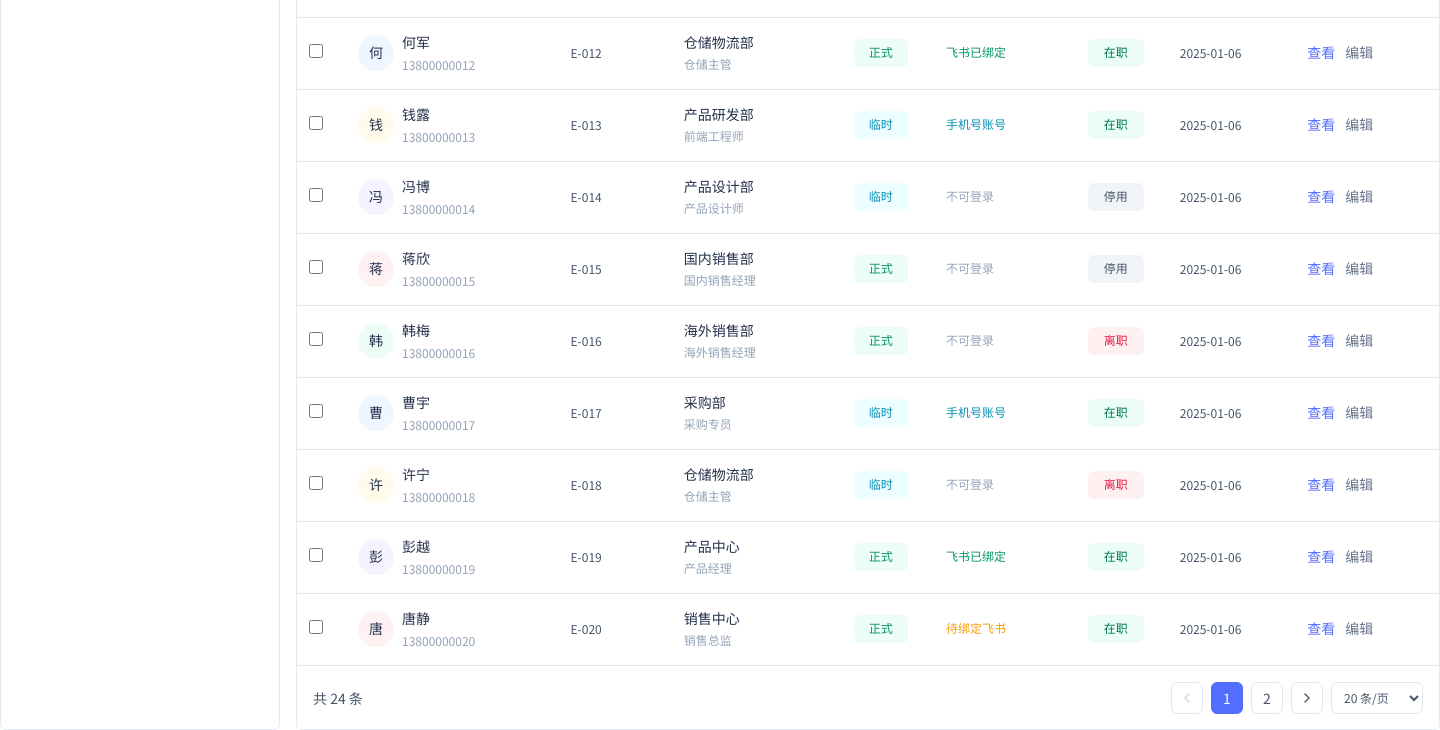
Test case: EmployeeManagementView › resets paging when filters change and renders an empty result
(page scrolled)
Click the button with test id "page-2" at x=1267, y=698, box [1251,682,1283,714]
(page scrolled)
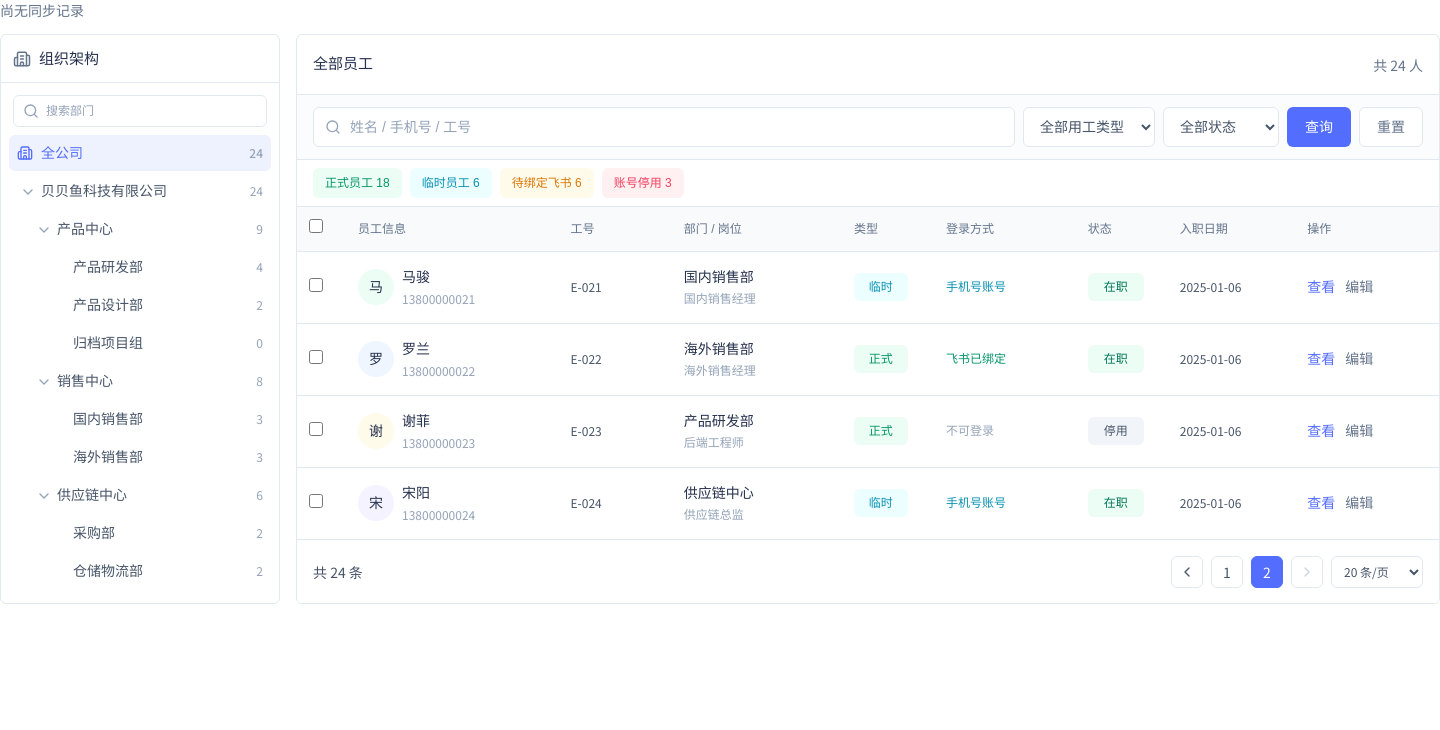
Type "不存在的员工" into the field with test id "employee-keyword" at x=664, y=127, box [313,107,1015,147]
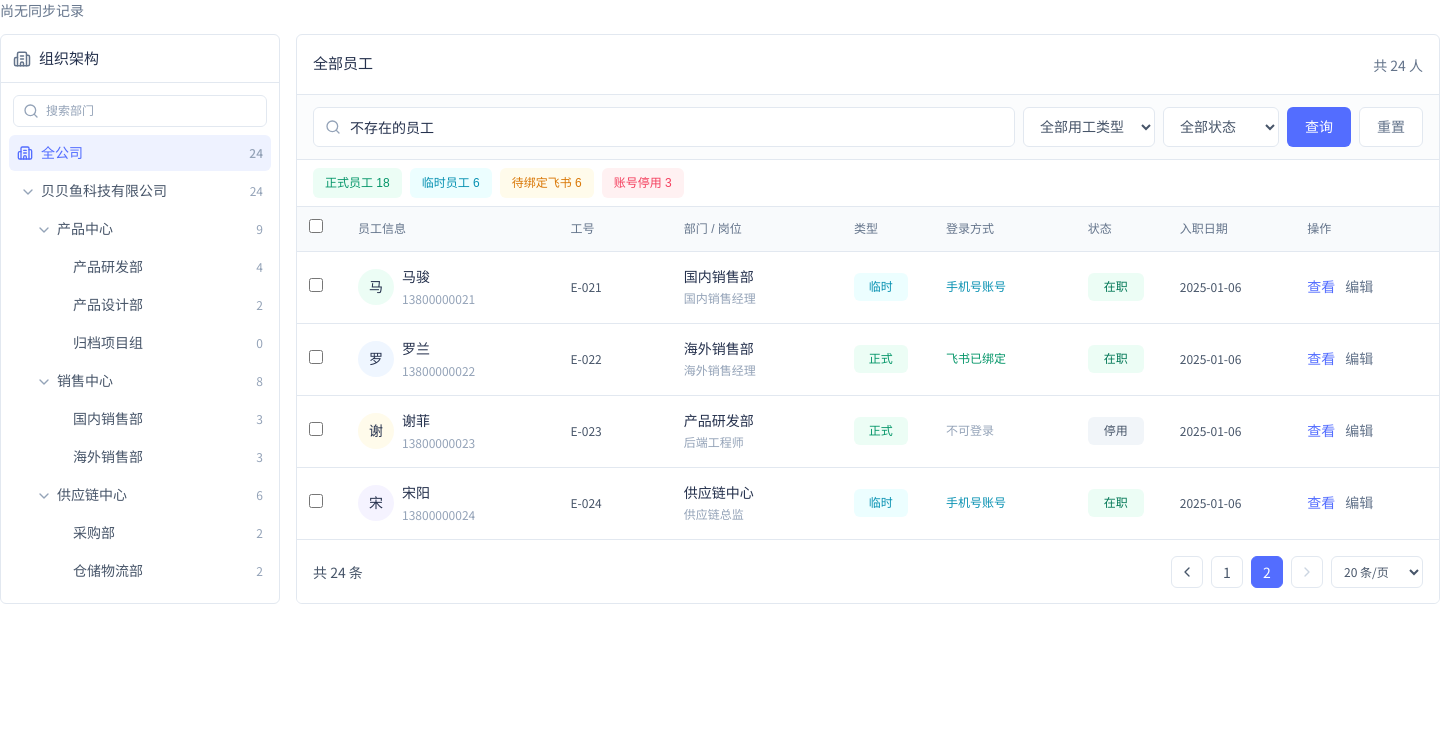
Click the button with test id "employee-search" at x=1319, y=127, box [1287,107,1351,147]
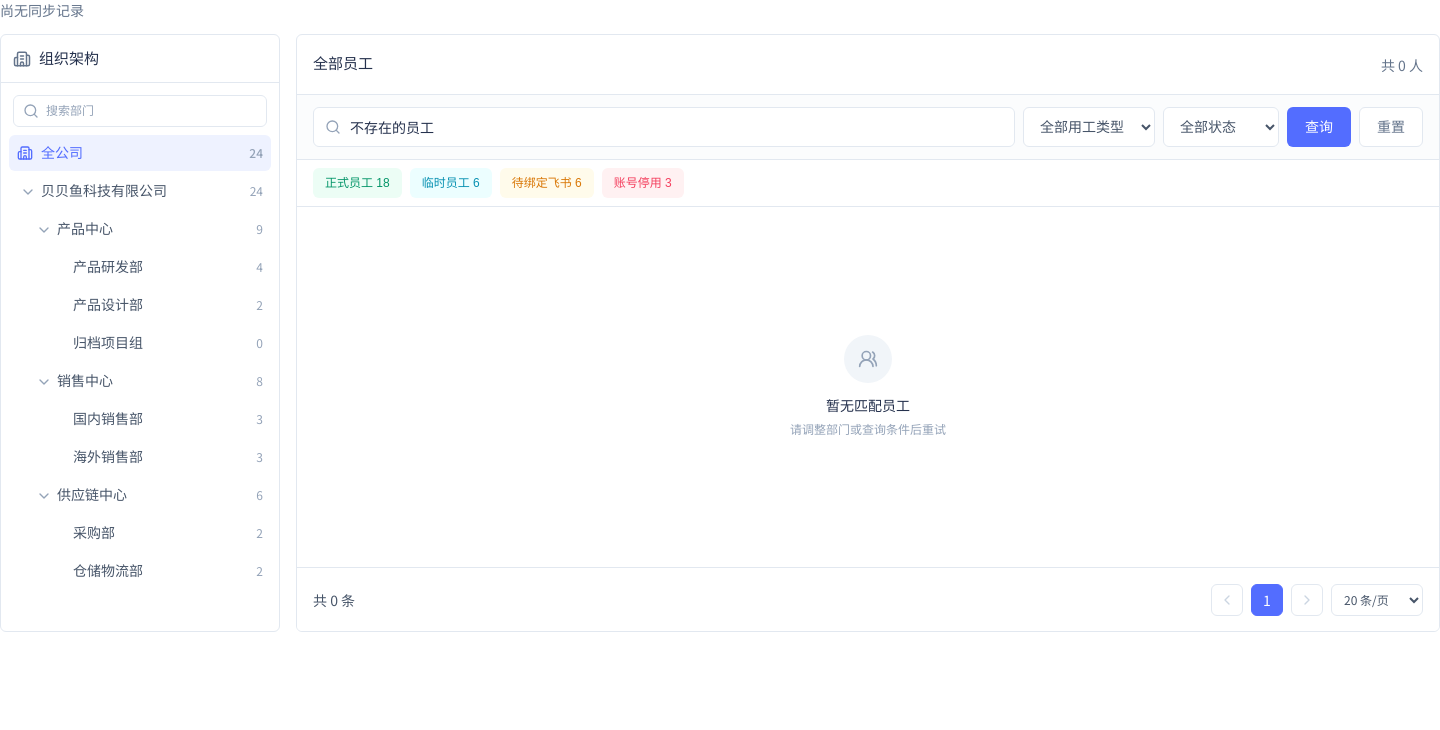
Expected: the element with test id "employee-empty" shows "暂无匹配员工", [826,398,910,414]
